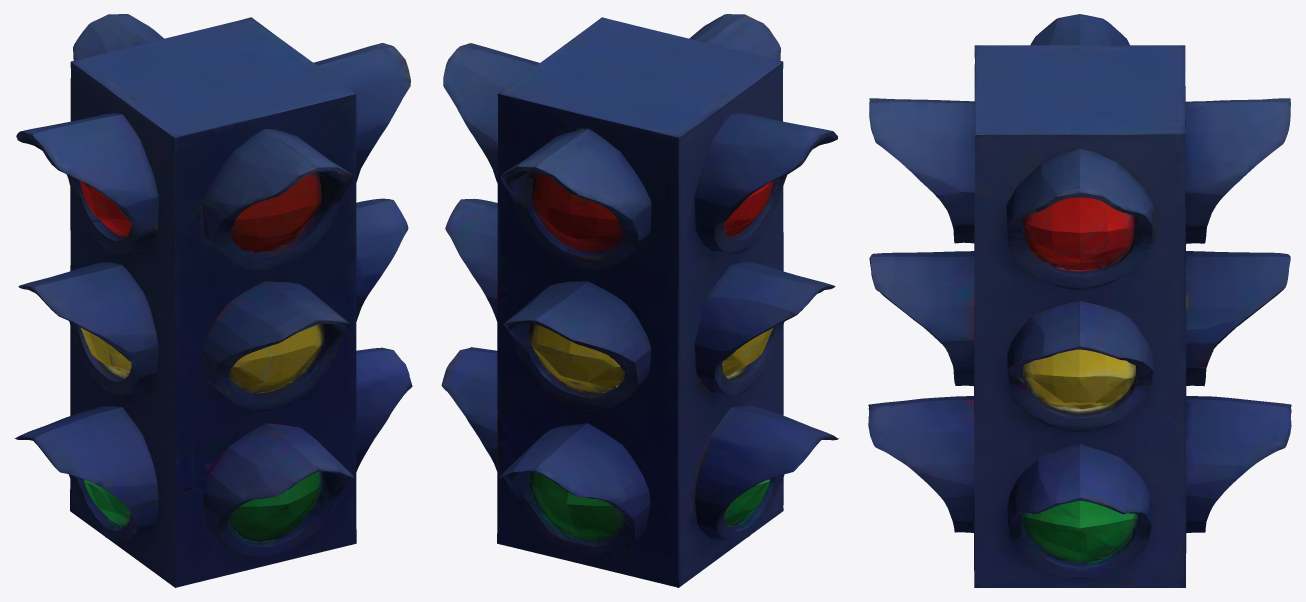
Rendered from prop_trafficlight.glb.
3 views of the same model, side by side, from view 1: azimuth 30°, elevation 25°; view 2: azimuth 150°, elevation 25°; view 3: azimuth 270°, elevation 25° (orthographic).
Visible parts, largest first — view 1: groundshift; view 2: groundshift; view 3: groundshift.
Boxes of the visible parts, <box> form: groundshift: <box>15,14,412,587</box>; groundshift: <box>441,14,838,587</box>; groundshift: <box>868,14,1291,587</box>.
Bounding box in the file's own units: 3.88 × 4.6 × 3.89.
1 material, 1 textured.
